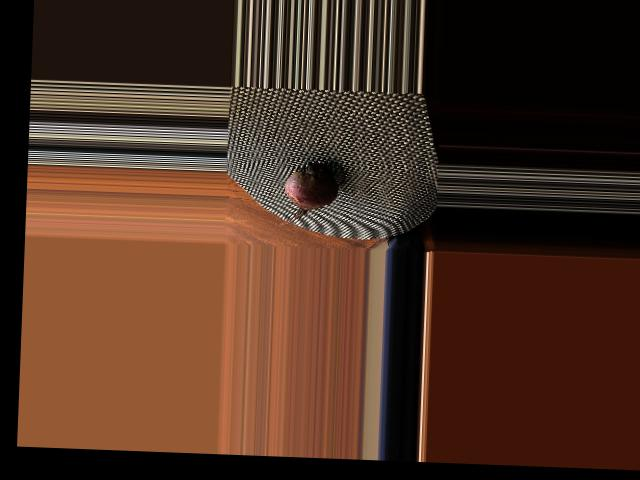beet: (275, 158, 346, 226)
